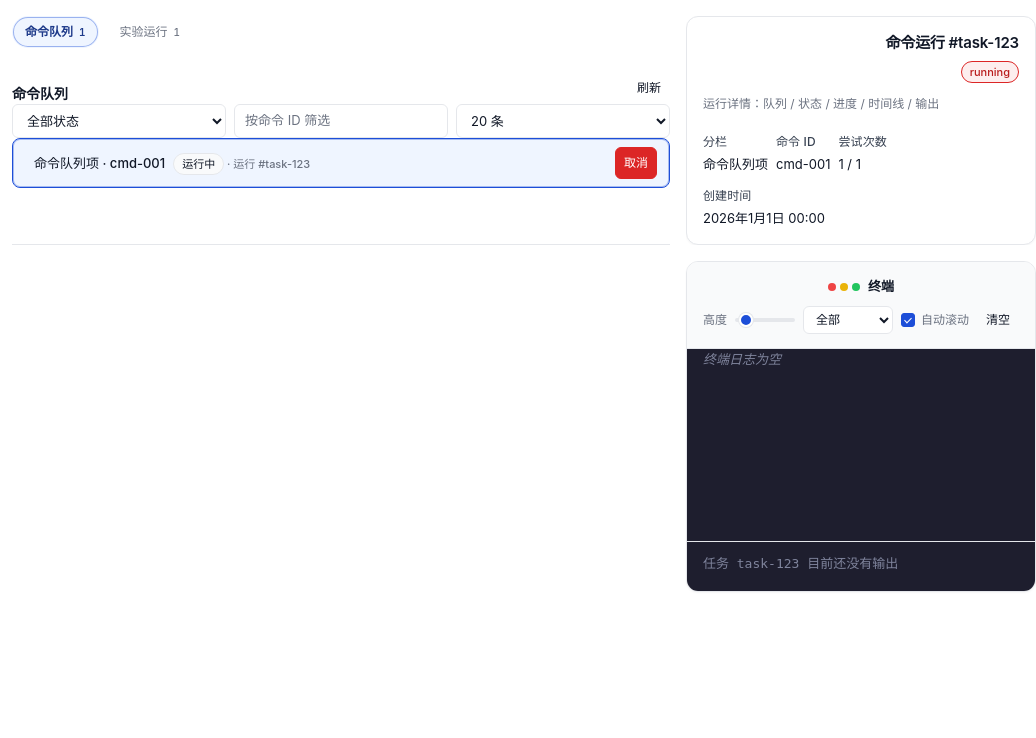
Scenario: TaskCenterView waiting state branches › renders the manual gate branch in Chinese when locale is zh-CN
The width and height of the screenshot is (1036, 738).
Click the tab "实验运行 1" at (150, 32), box [106, 16, 193, 48]
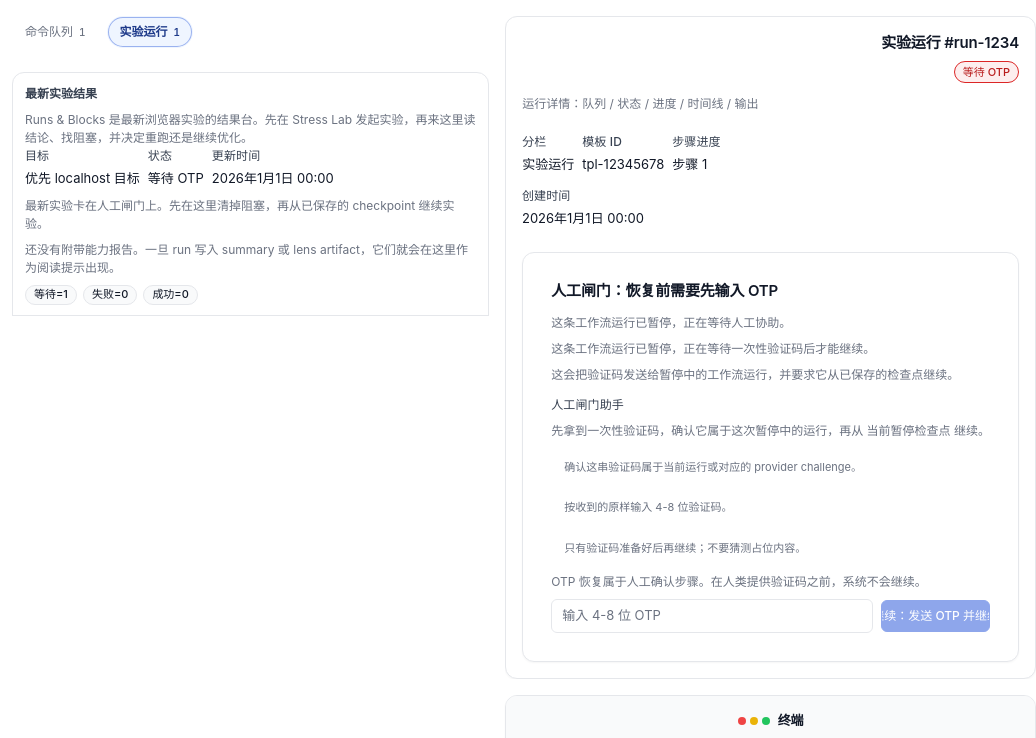
Result: the text "最新实验结果" is shown at [25, 86, 97, 101]
Result: the text "人工闸门：恢复前需要先输入 OTP" is shown at [551, 281, 778, 300]
Result: the text "这条工作流运行已暂停，正在等待一次性验证码后才能继续。" is shown at [551, 340, 875, 356]
